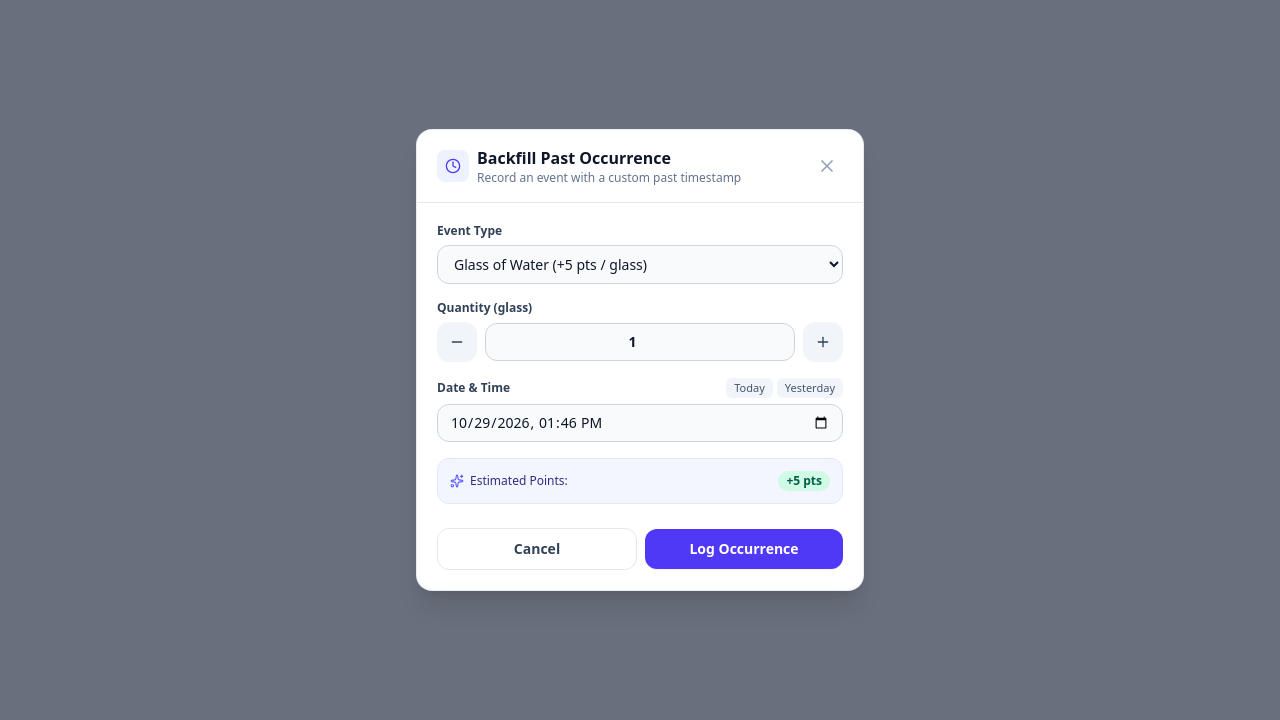
BackfillModal › shows subtype options when selecting an event type with subtypes
Note: Select Coffee
Select "Cup of Coffee (+2 pts / cup)" in the dropdown with test id "event-type-select" at (640, 264), box top-left (437, 245), bottom-right (843, 284)
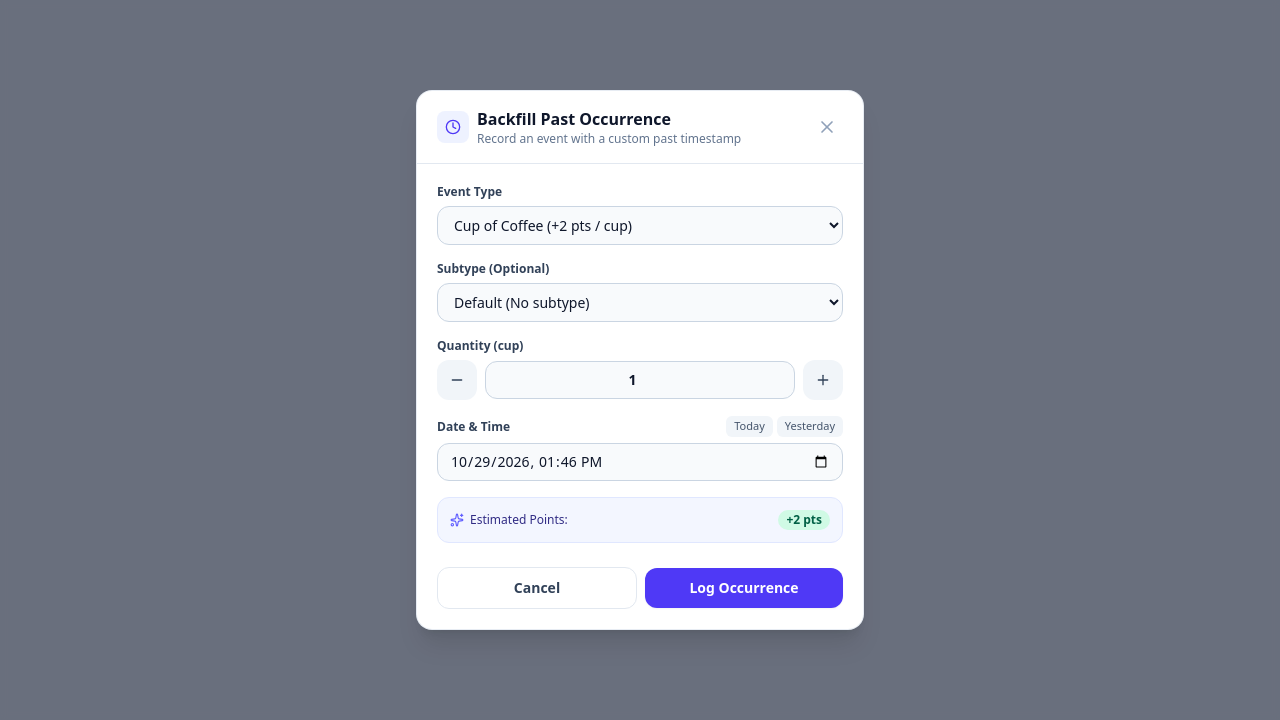
Now the dropdown with test id "subtype-select" is shown, box top-left (437, 283), bottom-right (843, 322)
